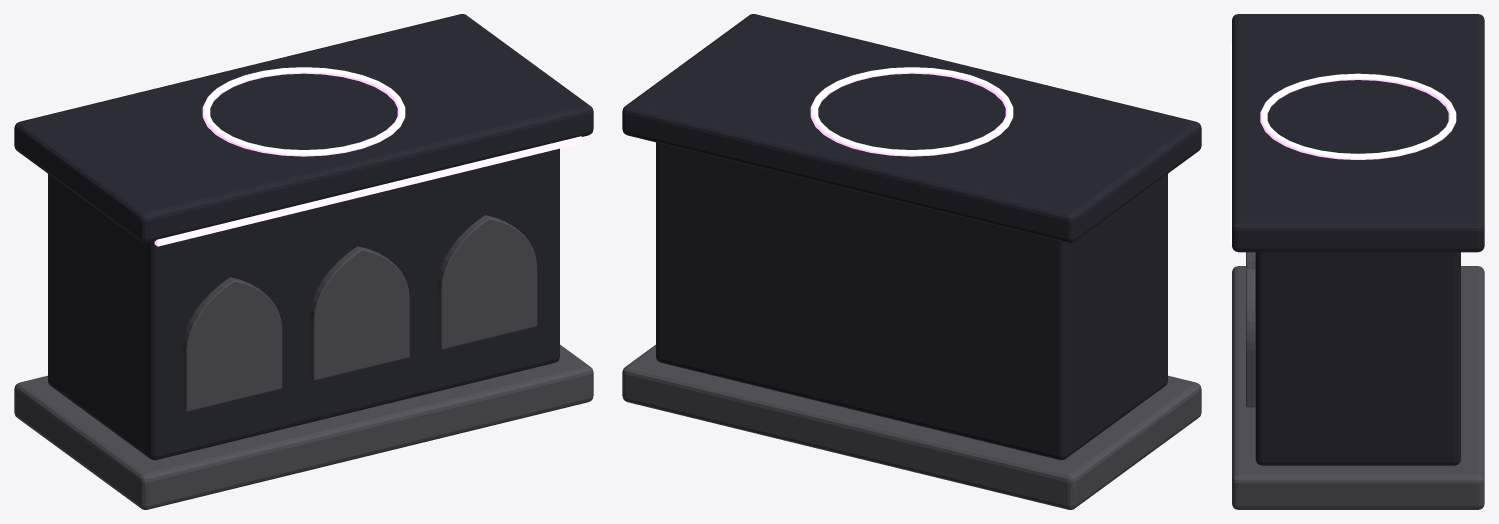
Rendered from altar_obsidian.glb.
3 views of the same model, side by side, from view 1: azimuth 30°, elevation 25°; view 2: azimuth 150°, elevation 25°; view 3: azimuth 270°, elevation 25° (orthographic). The views are drawn at different scales.
Visible parts, largest first — view 1: GD_altar_obsidian__m1, GD_altar_obsidian__m0, GD_altar_obsidian__m2; view 2: GD_altar_obsidian__m1, GD_altar_obsidian__m0, GD_altar_obsidian__m2; view 3: GD_altar_obsidian__m1, GD_altar_obsidian__m0, GD_altar_obsidian__m2.
Boxes of the visible parts, x1,y1,x2,y2 form: GD_altar_obsidian__m1: [14, 14, 593, 460]; GD_altar_obsidian__m0: [14, 215, 593, 509]; GD_altar_obsidian__m2: [154, 67, 582, 246]; GD_altar_obsidian__m1: [622, 14, 1201, 460]; GD_altar_obsidian__m0: [622, 344, 1201, 509]; GD_altar_obsidian__m2: [810, 67, 1013, 156]; GD_altar_obsidian__m1: [1232, 14, 1484, 465]; GD_altar_obsidian__m0: [1232, 252, 1484, 509]; GD_altar_obsidian__m2: [1230, 44, 1456, 250].
Size of the model in its own units: 1.6 by 1.02 by 0.805.
